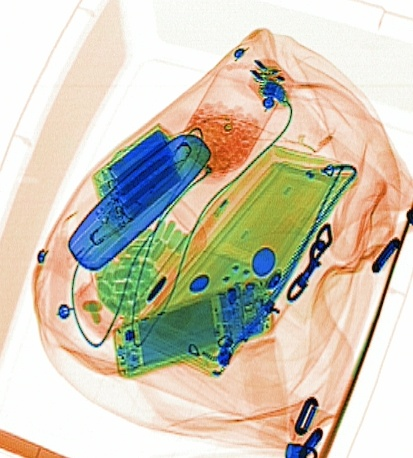powerbank: (91, 118, 185, 237)
